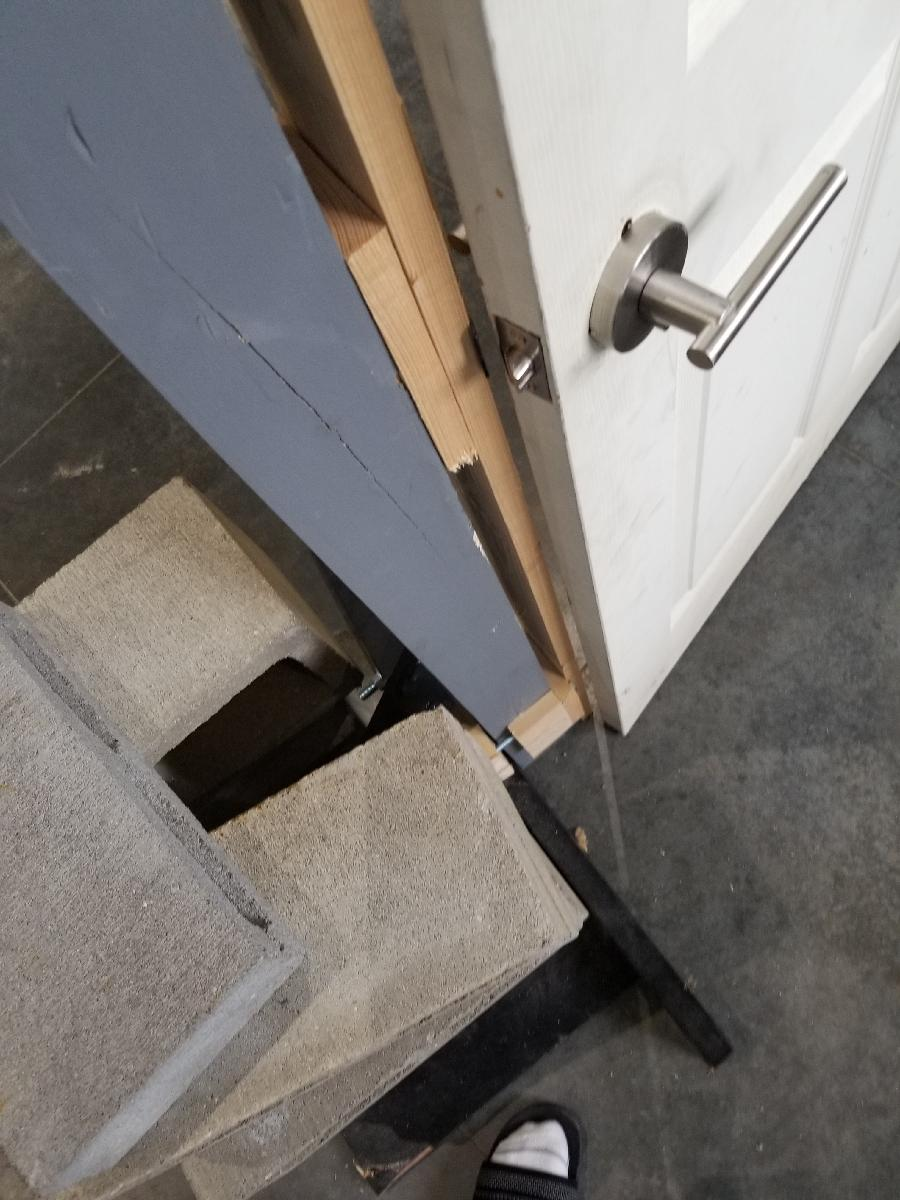doorHandle: (584, 157, 851, 381)
